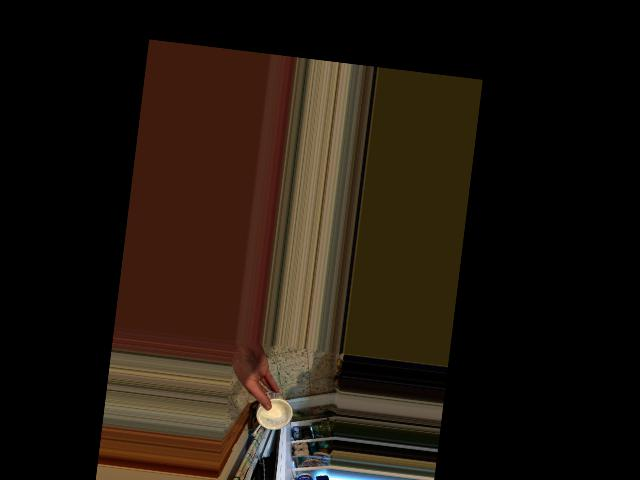cotage: (251, 386, 291, 433)
